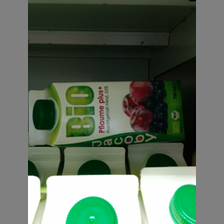juice: (28, 81, 185, 144)
